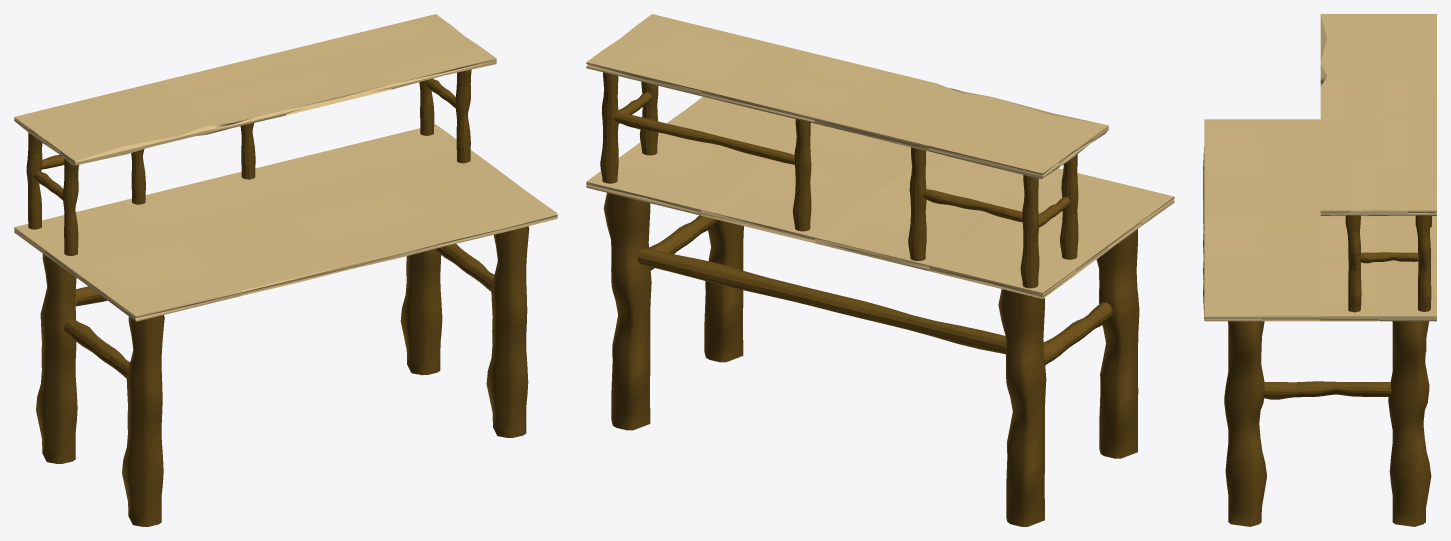
Rendered from prop_storing.fbx.
3 renders of one model, left to right at view 1: azimuth 30°, elevation 25°; view 2: azimuth 150°, elevation 25°; view 3: azimuth 270°, elevation 25°, orthographic. The views are drawn at different scales.
Parts seen in each view (by area): view 1: storing_tabletop_LOD0, storing_shelf_LOD0, storing_leg2_LOD0, storing_leg1_LOD0, storing_leg3_LOD0, storing_leg_LOD0, storing_support1_LOD0, storing_leg_brace1_LOD0, storing_support3_LOD0, storing_support_LOD0, storing_leg_brace_LOD0, storing_support4_LOD0 (+2 smaller); view 2: storing_tabletop_LOD0, storing_shelf_LOD0, storing_leg3_LOD0, storing_leg_LOD0, storing_leg2_LOD0, storing_leg_brace2_LOD0, storing_leg1_LOD0, storing_suppport_brace3_LOD0, storing_support_LOD0, storing_support4_LOD0, storing_support5_LOD0, storing_support2_LOD0 (+5 smaller); view 3: storing_tabletop_LOD0, storing_shelf_LOD0, storing_leg_LOD0, storing_leg1_LOD0, storing_leg_brace_LOD0, storing_support3_LOD0, storing_support2_LOD0, storing_suppport_brace2_LOD0.
Part boxes in pixels (x1,y1,x2,y2): storing_tabletop_LOD0: (14,124,557,321); storing_shelf_LOD0: (14,14,496,165); storing_leg2_LOD0: (122,315,164,526); storing_leg1_LOD0: (486,226,529,437); storing_leg3_LOD0: (36,254,77,463); storing_leg_LOD0: (400,249,442,375); storing_support1_LOD0: (63,158,78,255); storing_leg_brace1_LOD0: (64,319,130,378); storing_support3_LOD0: (455,69,471,163); storing_support_LOD0: (26,133,42,229); storing_leg_brace_LOD0: (434,244,494,291); storing_support4_LOD0: (240,123,255,179); storing_tabletop_LOD0: (586,96,1174,298); storing_shelf_LOD0: (586,14,1108,179); storing_leg3_LOD0: (998,289,1046,526); storing_leg_LOD0: (603,193,651,430); storing_leg2_LOD0: (1096,229,1139,458); storing_leg_brace2_LOD0: (637,248,1005,354); storing_leg1_LOD0: (704,220,743,362); storing_suppport_brace3_LOD0: (614,112,794,164); storing_support_LOD0: (1020,175,1039,288); storing_support4_LOD0: (792,119,811,231); storing_support5_LOD0: (908,147,926,260); storing_support2_LOD0: (600,72,618,183); storing_tabletop_LOD0: (1203,119,1436,321); storing_shelf_LOD0: (1320,14,1436,215); storing_leg_LOD0: (1388,321,1431,526); storing_leg1_LOD0: (1224,321,1266,526); storing_leg_brace_LOD0: (1263,381,1391,399); storing_support3_LOD0: (1345,215,1361,312); storing_support2_LOD0: (1415,215,1431,311); storing_suppport_brace2_LOD0: (1360,252,1419,263).
Size of what is drawn, in the model's own units: 200 by 153 by 101.
